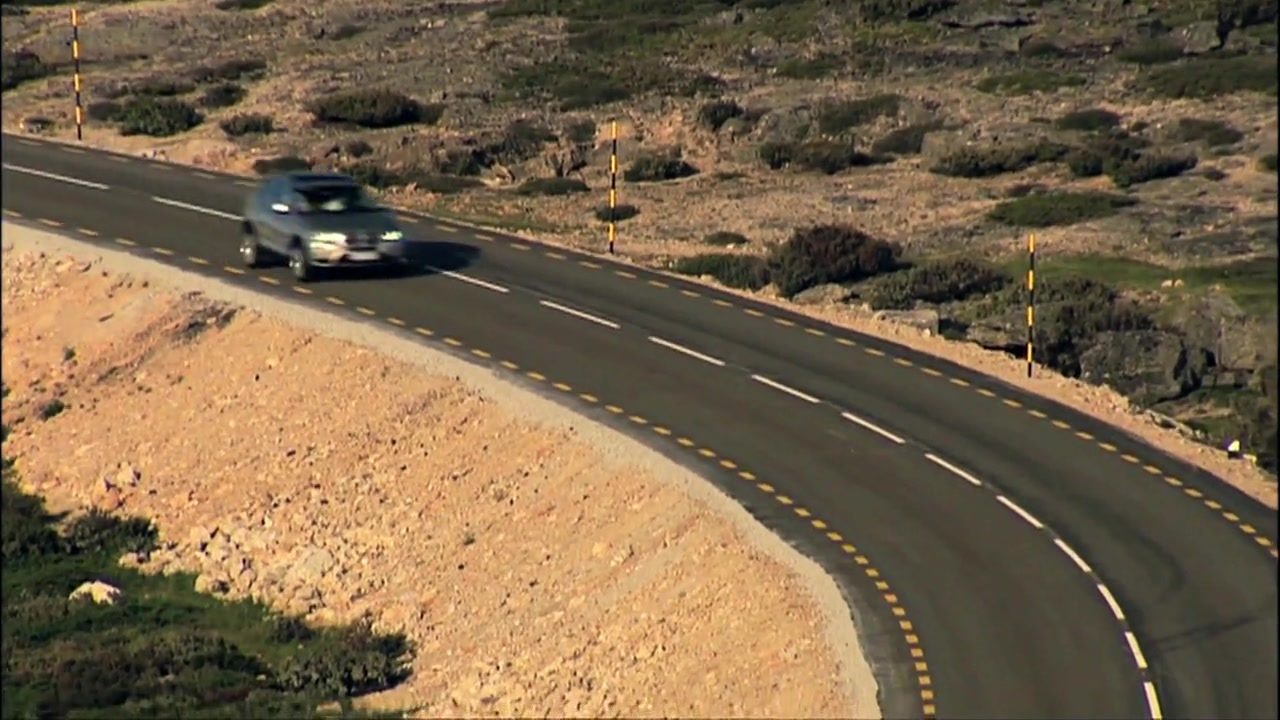car: (240, 172, 411, 283)
